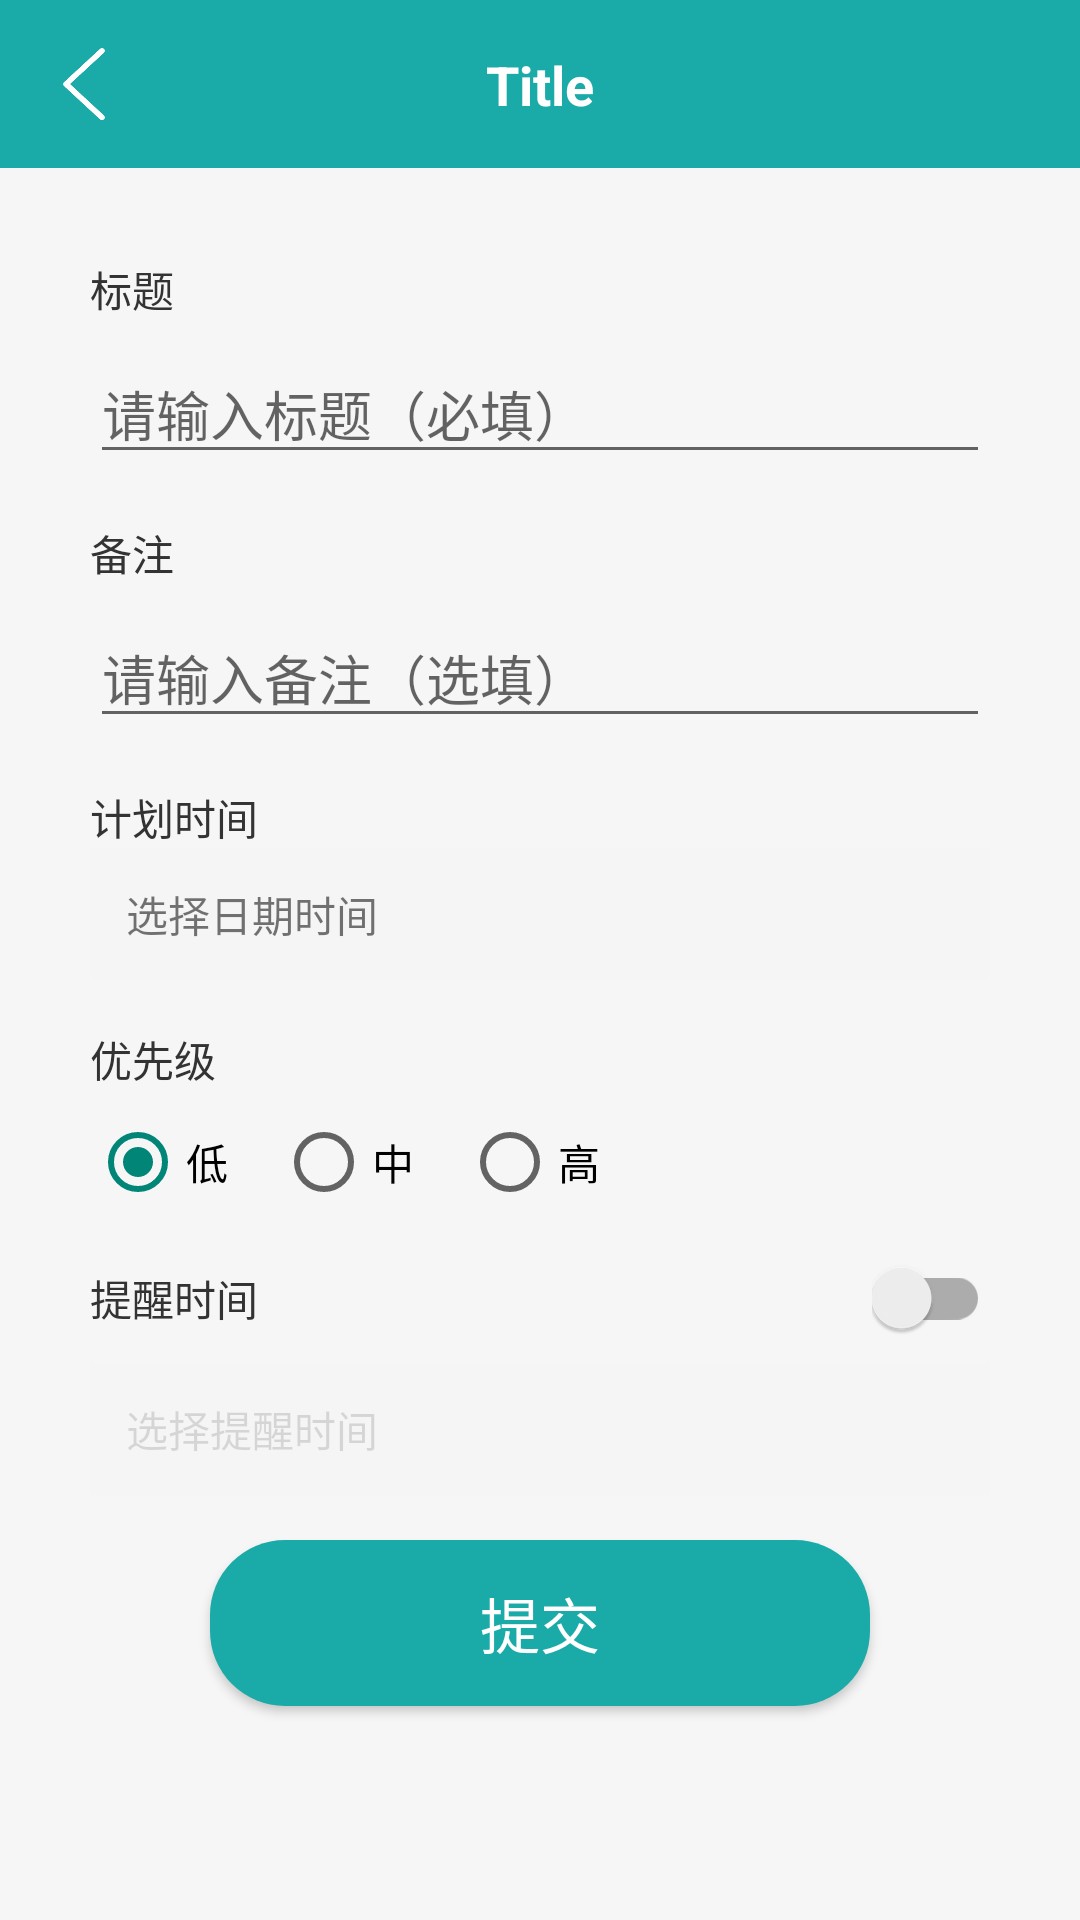

Point at icon controls on the screen. Image size 1080px x 1920px, points as (x,y).
back: (84,84)
